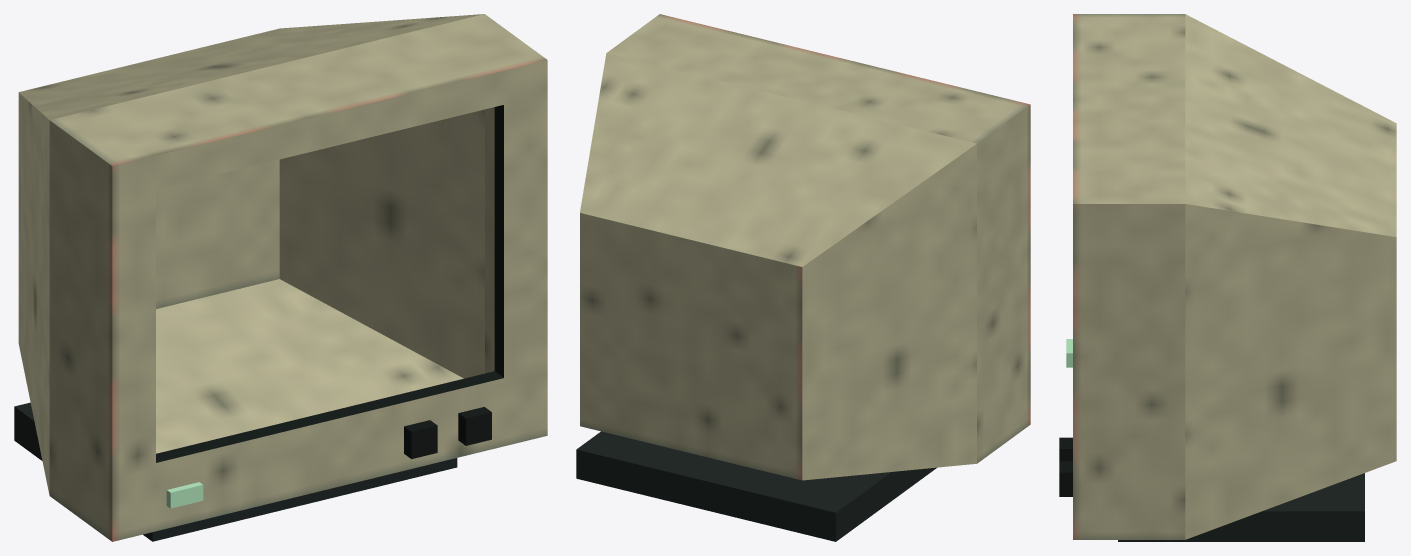
Rendered from SM_LabPanel_CRT_40x30x36.fbx.
The picture shows the model from 3 angles, left to right: view 1: azimuth 30°, elevation 25°; view 2: azimuth 150°, elevation 25°; view 3: azimuth 270°, elevation 25°; orthographic projection. The views are drawn at different scales.
Visible parts, largest first — view 1: SM_LabPanel_CRT_40x30x36.001; view 2: SM_LabPanel_CRT_40x30x36.001; view 3: SM_LabPanel_CRT_40x30x36.001.
Part boxes in pixels (box(x1,y1,x2,y2)): SM_LabPanel_CRT_40x30x36.001: box(14, 14, 547, 541); SM_LabPanel_CRT_40x30x36.001: box(576, 14, 1030, 541); SM_LabPanel_CRT_40x30x36.001: box(1059, 14, 1396, 541).
Bounding box in the file's own units: 0.4 × 0.36 × 0.3.
